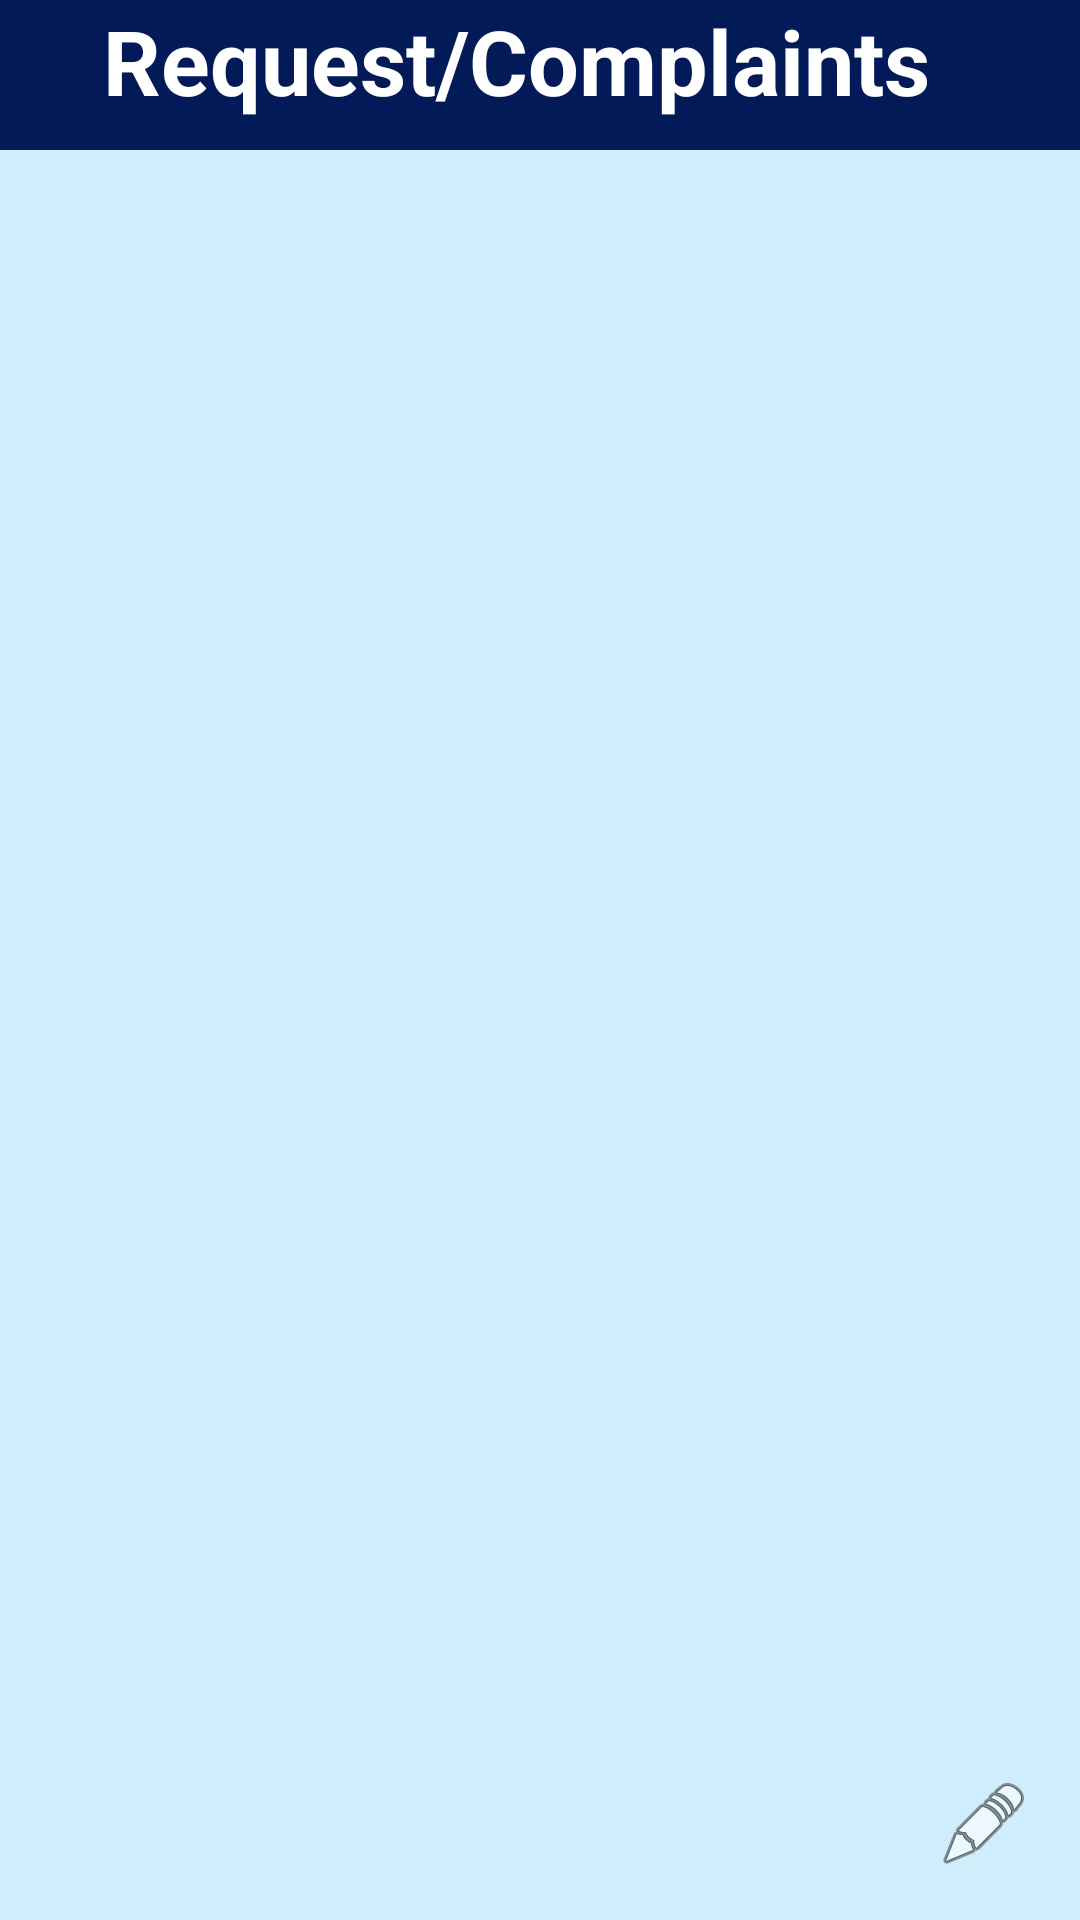

Point at icon controls on the screen. Image size 1080×1920, points as (x=x, y=y).
edit: (x=983, y=1823)
